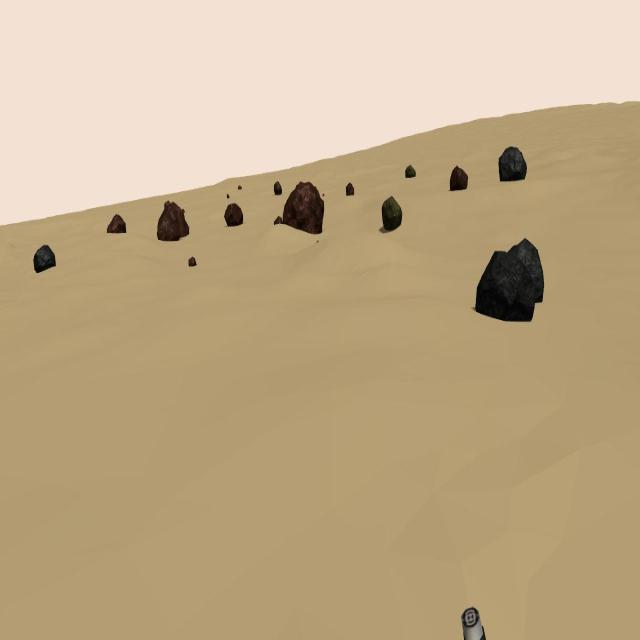rock: (476, 248, 536, 323), (509, 237, 544, 304), (282, 180, 324, 234), (498, 146, 527, 181), (157, 200, 179, 242), (381, 196, 403, 231), (170, 199, 190, 237), (33, 244, 56, 272), (224, 202, 244, 227), (450, 166, 468, 192), (107, 213, 127, 236), (404, 164, 416, 178), (345, 182, 355, 197), (273, 180, 282, 195), (188, 254, 196, 266), (273, 216, 282, 226), (164, 200, 170, 208), (182, 208, 185, 215), (322, 191, 326, 196), (238, 186, 242, 190), (227, 194, 230, 199), (316, 240, 318, 244)
